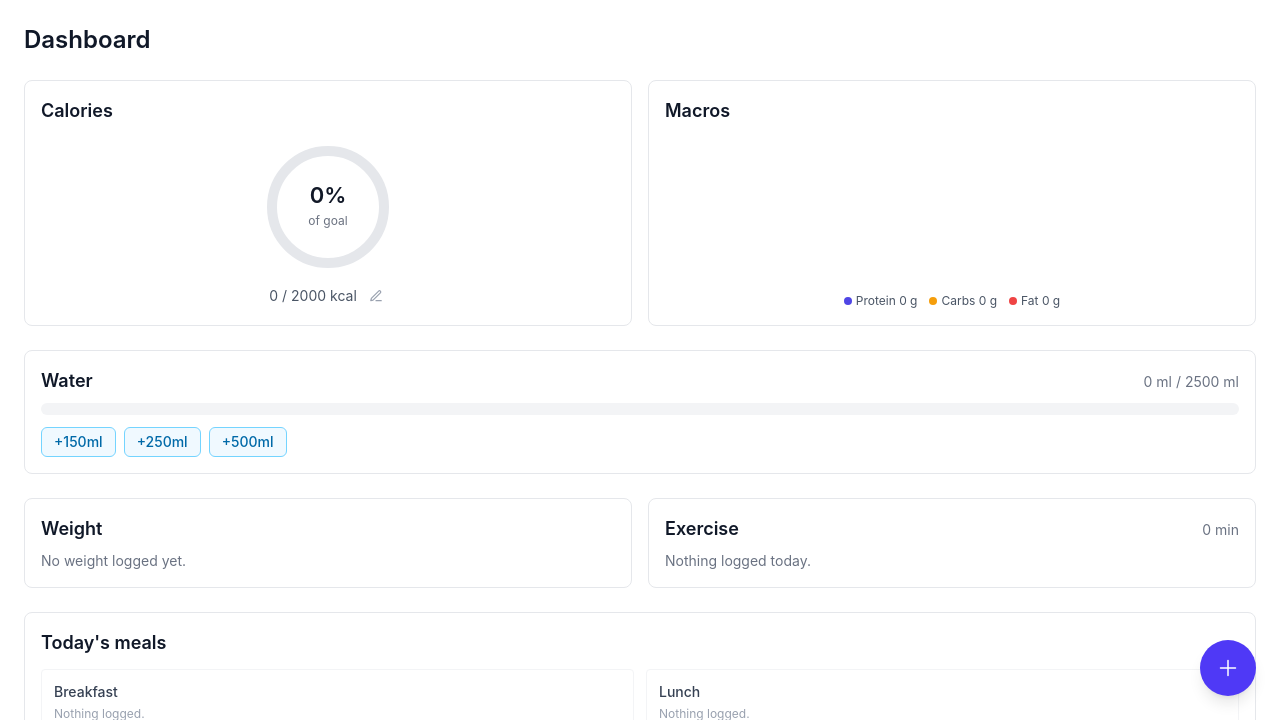
Test: Dashboard page › submits the goal when Enter is pressed in the input
Click the button named "edit calorie goal": (376, 296) [365,285,387,307]
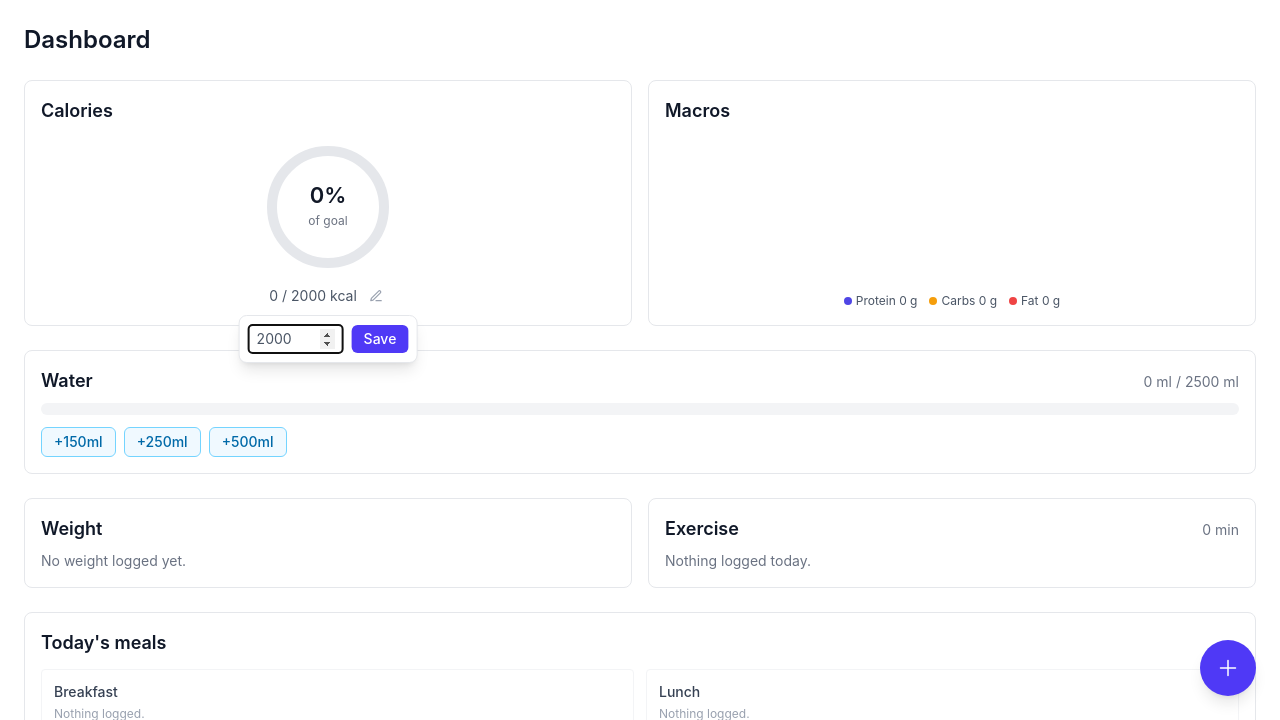
Replace the text in the number field named "calorie goal" with "1800": (296, 339) [248,324,344,354]
Then press Enter
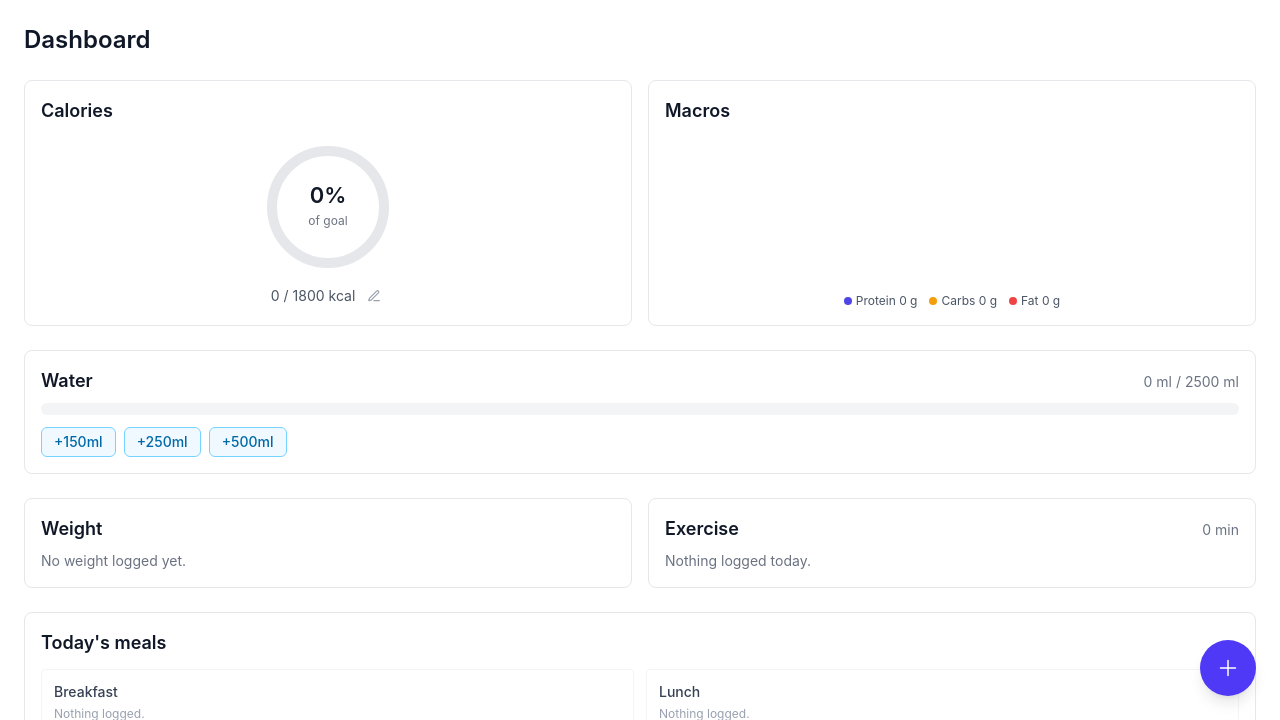
Check: the text with test id "calorie-goal" reads "1800", box [292,287,324,304]
